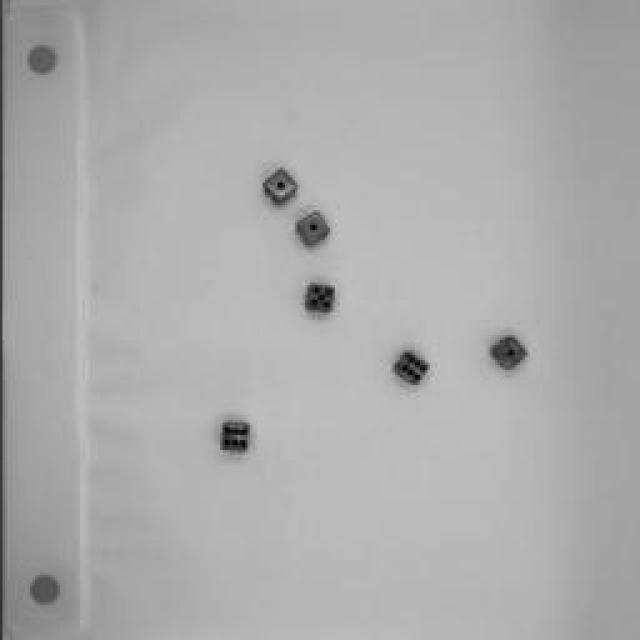dice_1: (254, 165, 304, 215), (484, 329, 531, 381), (292, 209, 330, 251)
dice_5: (298, 278, 340, 318)
dice_6: (386, 344, 434, 396), (214, 418, 256, 458)
